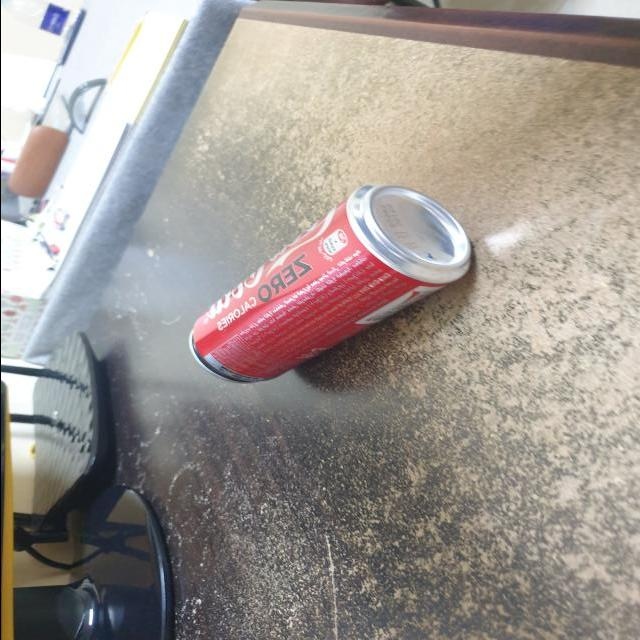can: (188, 183, 466, 381)
